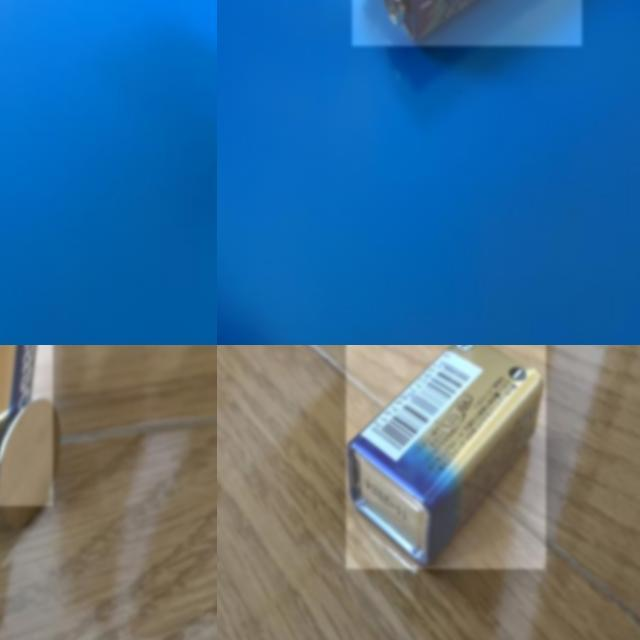9V: (346, 345, 546, 569)
